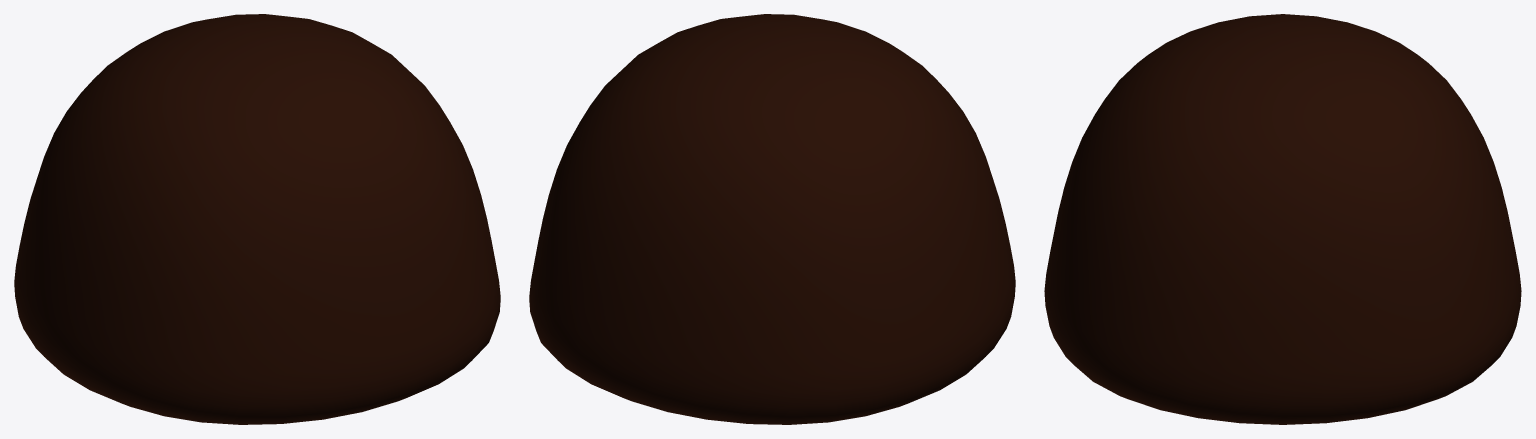
Rendered from chocolate.fbx.
The picture shows the model from 3 angles, left to right: view 1: azimuth 30°, elevation 25°; view 2: azimuth 150°, elevation 25°; view 3: azimuth 270°, elevation 25°; orthographic projection.
Visible parts, largest first — view 1: Cube.029; view 2: Cube.029; view 3: Cube.029.
Part boxes in pixels (x1,y1,x2,y2): Cube.029: [14, 14, 500, 424]; Cube.029: [529, 14, 1015, 424]; Cube.029: [1044, 14, 1521, 424].
Bounding box in the file's own units: 1.38 × 1.01 × 1.38.
